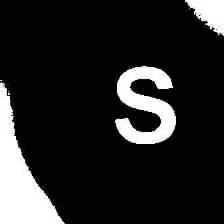LTR_S: (112, 59, 178, 147)
